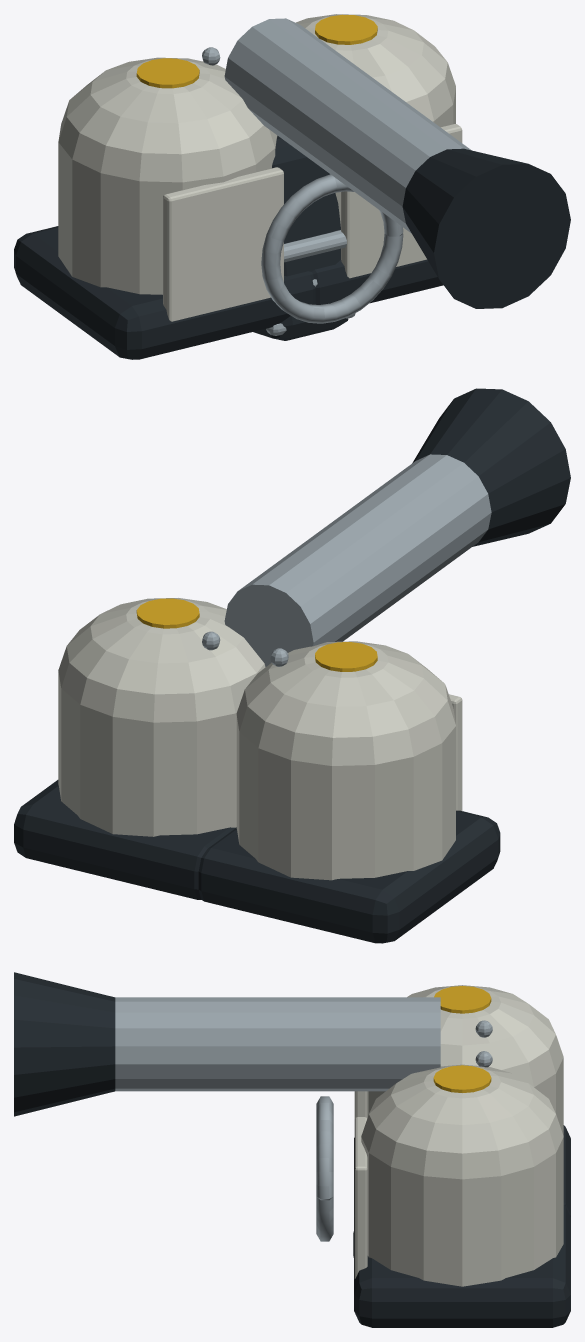
Rendered from foam-cannon.glb.
The picture shows the model from 3 angles, top to bottom: view 1: azimuth 30°, elevation 25°; view 2: azimuth 150°, elevation 25°; view 3: azimuth 270°, elevation 25°; orthographic projection. The views are drawn at different scales.
Visible parts, largest first — view 1: barrel; view 2: barrel; view 3: barrel.
Part boxes in pixels (bbox=[...]): barrel: bbox=[14, 14, 570, 359]; barrel: bbox=[14, 388, 570, 943]; barrel: bbox=[14, 972, 570, 1327].
Bounding box in the file's own units: 0.56 × 0.4589 × 0.77.
